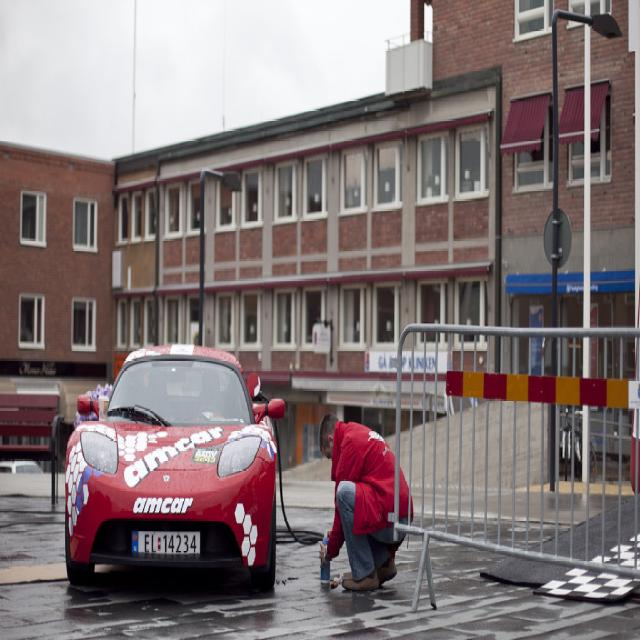car: (60, 339, 285, 597)
